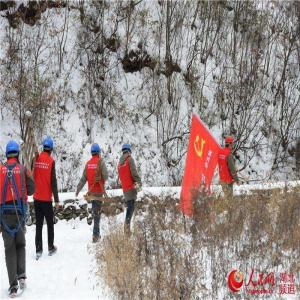blue: (5, 140, 23, 165), (42, 136, 55, 157), (90, 142, 102, 160), (122, 143, 133, 159)
red: (225, 135, 235, 150)
